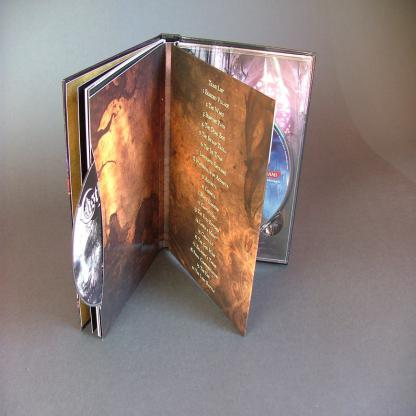book: (69, 28, 333, 379)
